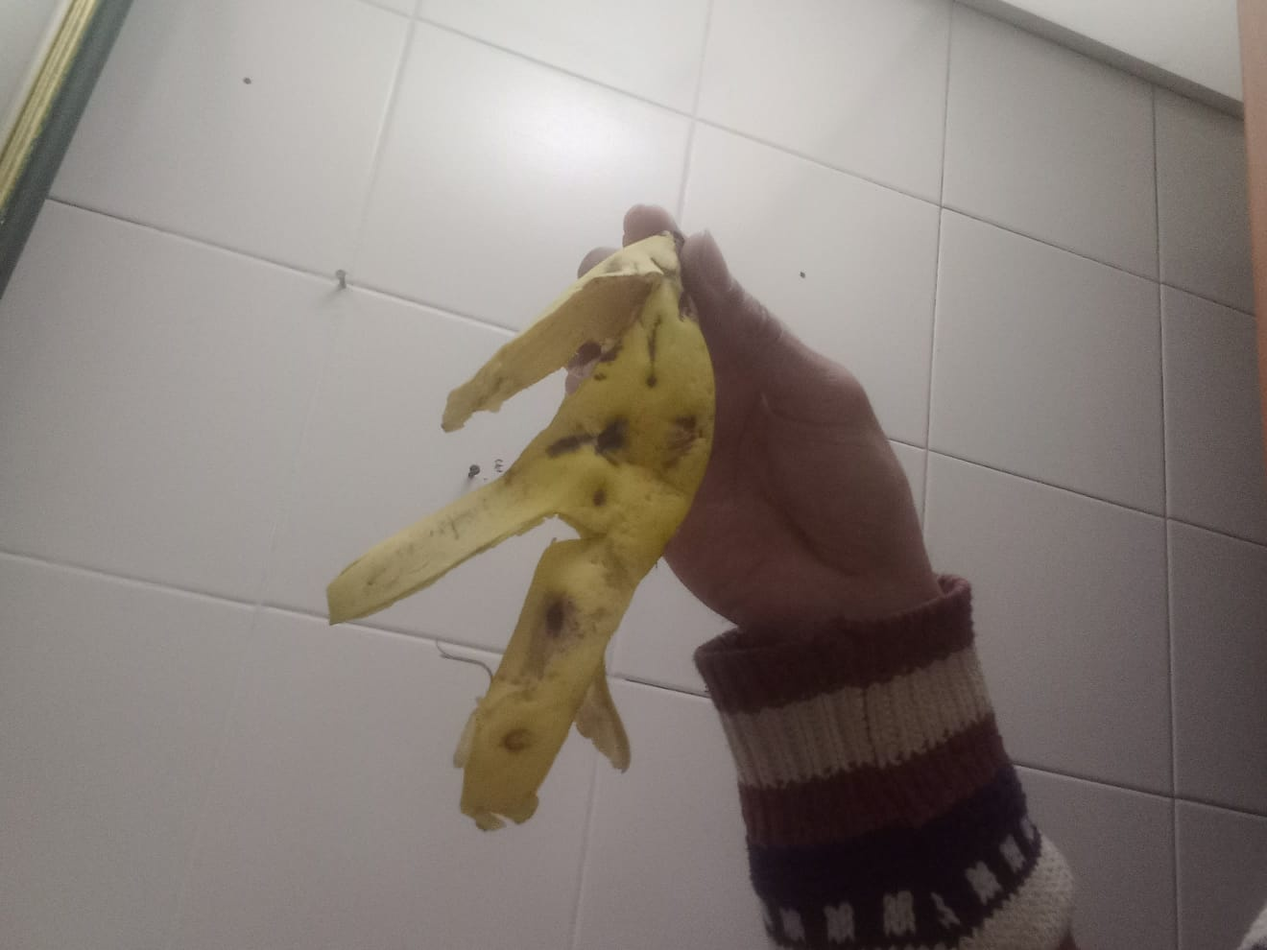Organico: (329, 232, 714, 831)
